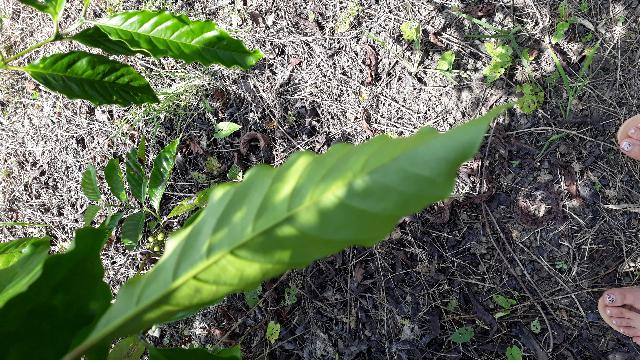healthy: (89, 98, 534, 336)
